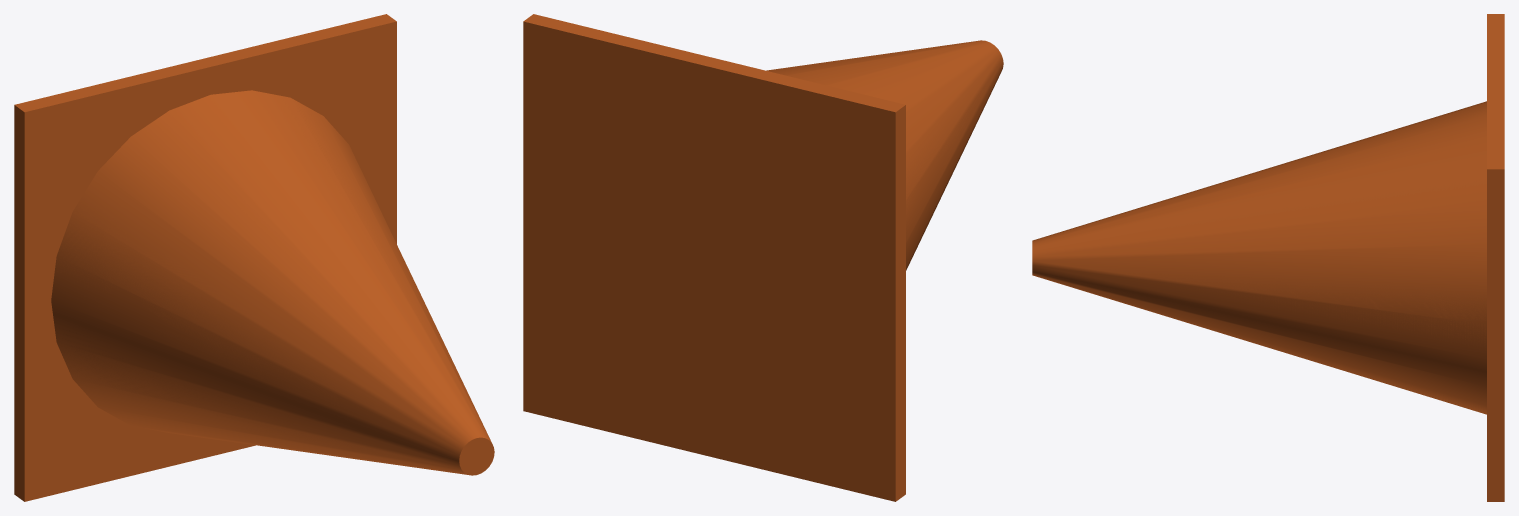
Rendered from traffic_cone.dae.
The picture shows the model from 3 angles, left to right: view 1: azimuth 30°, elevation 25°; view 2: azimuth 150°, elevation 25°; view 3: azimuth 270°, elevation 25°; orthographic projection. The views are drawn at different scales.
Visible parts, largest first — view 1: coords_ME_ID3_MA___auto_4, coords_ME_ID11_MA___auto_4; view 2: coords_ME_ID11_MA___auto_4, coords_ME_ID3_MA___auto_4; view 3: coords_ME_ID3_MA___auto_4, coords_ME_ID11_MA___auto_4.
Boxes of the visible parts, box(x1,y1,x2,y2) form: coords_ME_ID3_MA___auto_4: box(51, 90, 494, 475); coords_ME_ID11_MA___auto_4: box(14, 14, 396, 501); coords_ME_ID11_MA___auto_4: box(523, 14, 905, 501); coords_ME_ID3_MA___auto_4: box(766, 40, 1003, 270); coords_ME_ID3_MA___auto_4: box(1032, 101, 1486, 414); coords_ME_ID11_MA___auto_4: box(1487, 14, 1504, 501).
Size of the model in its own units: 4.3 by 4.3 by 5.52.
